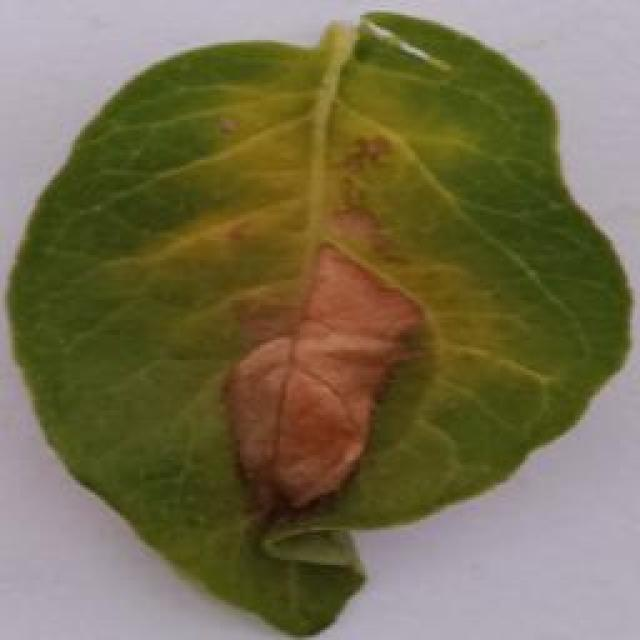Potato_Late_Blight: (8, 12, 624, 638)
